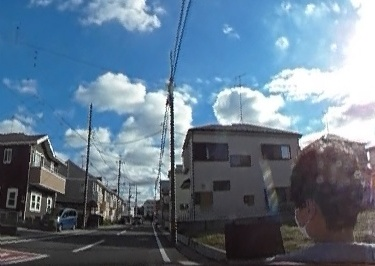person: (271, 142, 375, 266)
